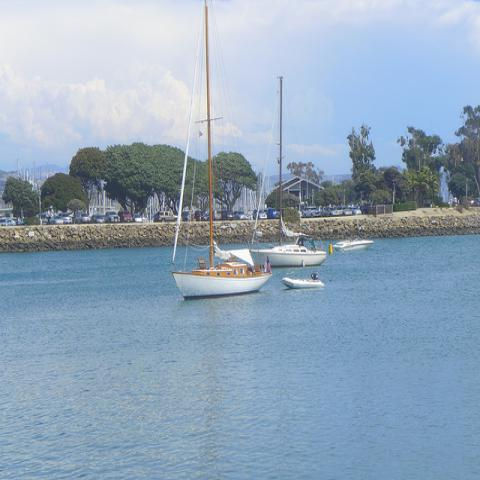car: (1, 205, 333, 229), (75, 212, 90, 224), (118, 210, 133, 222), (265, 208, 280, 219), (222, 209, 234, 221), (130, 212, 144, 222), (90, 214, 105, 223), (330, 206, 343, 216), (49, 215, 63, 224), (234, 211, 246, 220), (350, 207, 362, 215), (40, 214, 48, 224), (343, 208, 352, 215), (7, 219, 16, 226)
truck: (304, 207, 321, 218), (222, 211, 237, 219)
